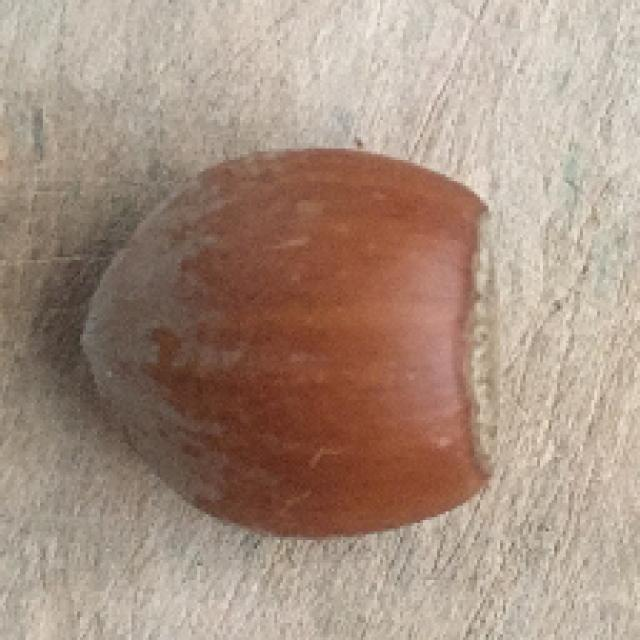QualityHazelnut: (76, 142, 506, 536)
